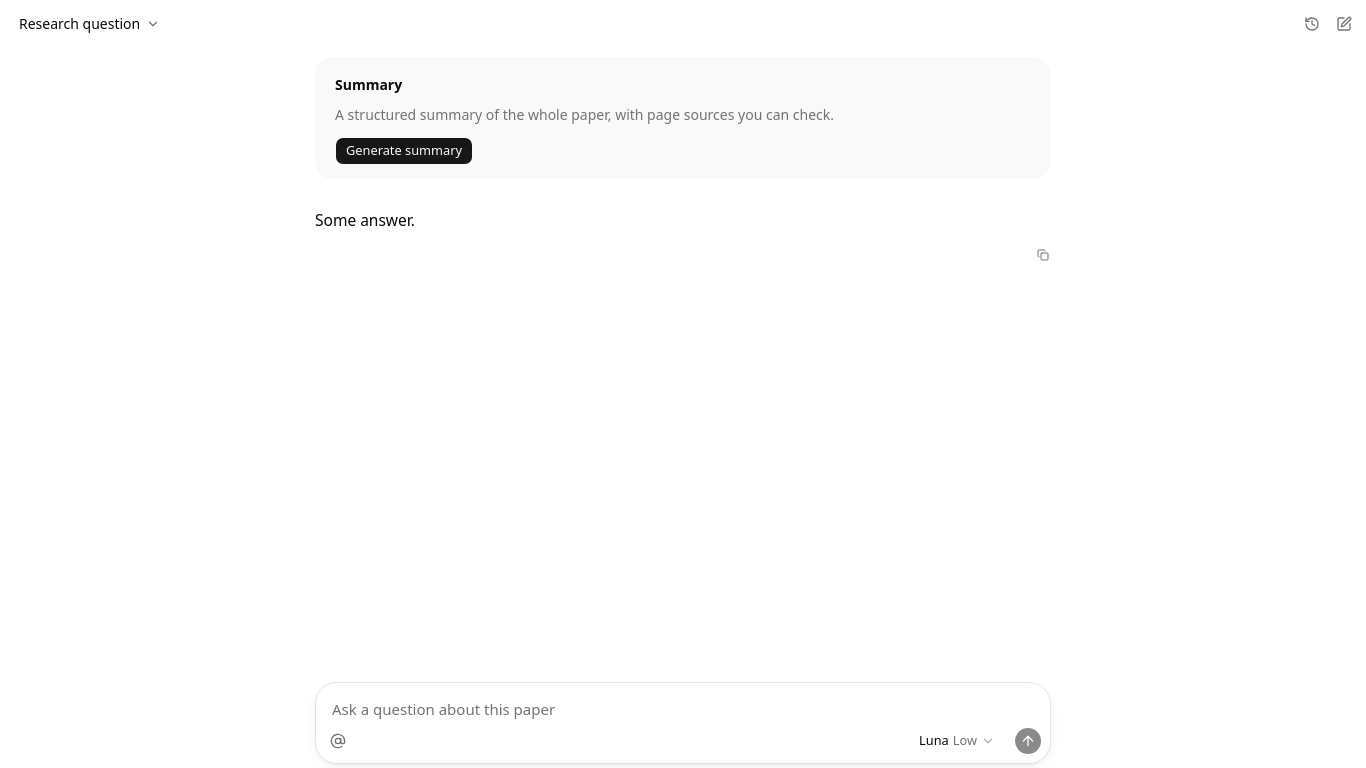
Scenario: Given a copy that the browser refuses, Then the copy button says so
Click the button named "Copy answer". click: [1043, 255]
box: [1031,243,1055,267]
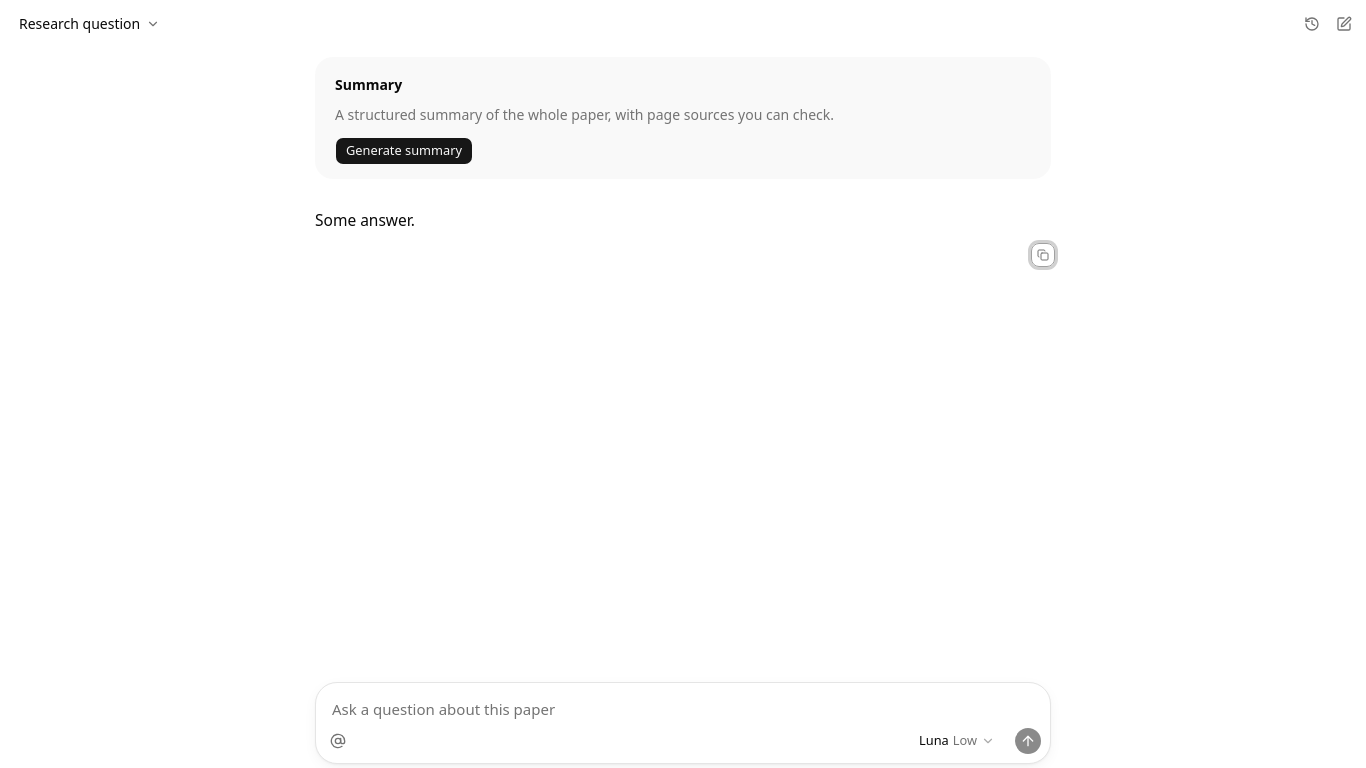
Expected: the button named "Could not copy. Select the text instead." is shown, [1031,243,1055,267]
